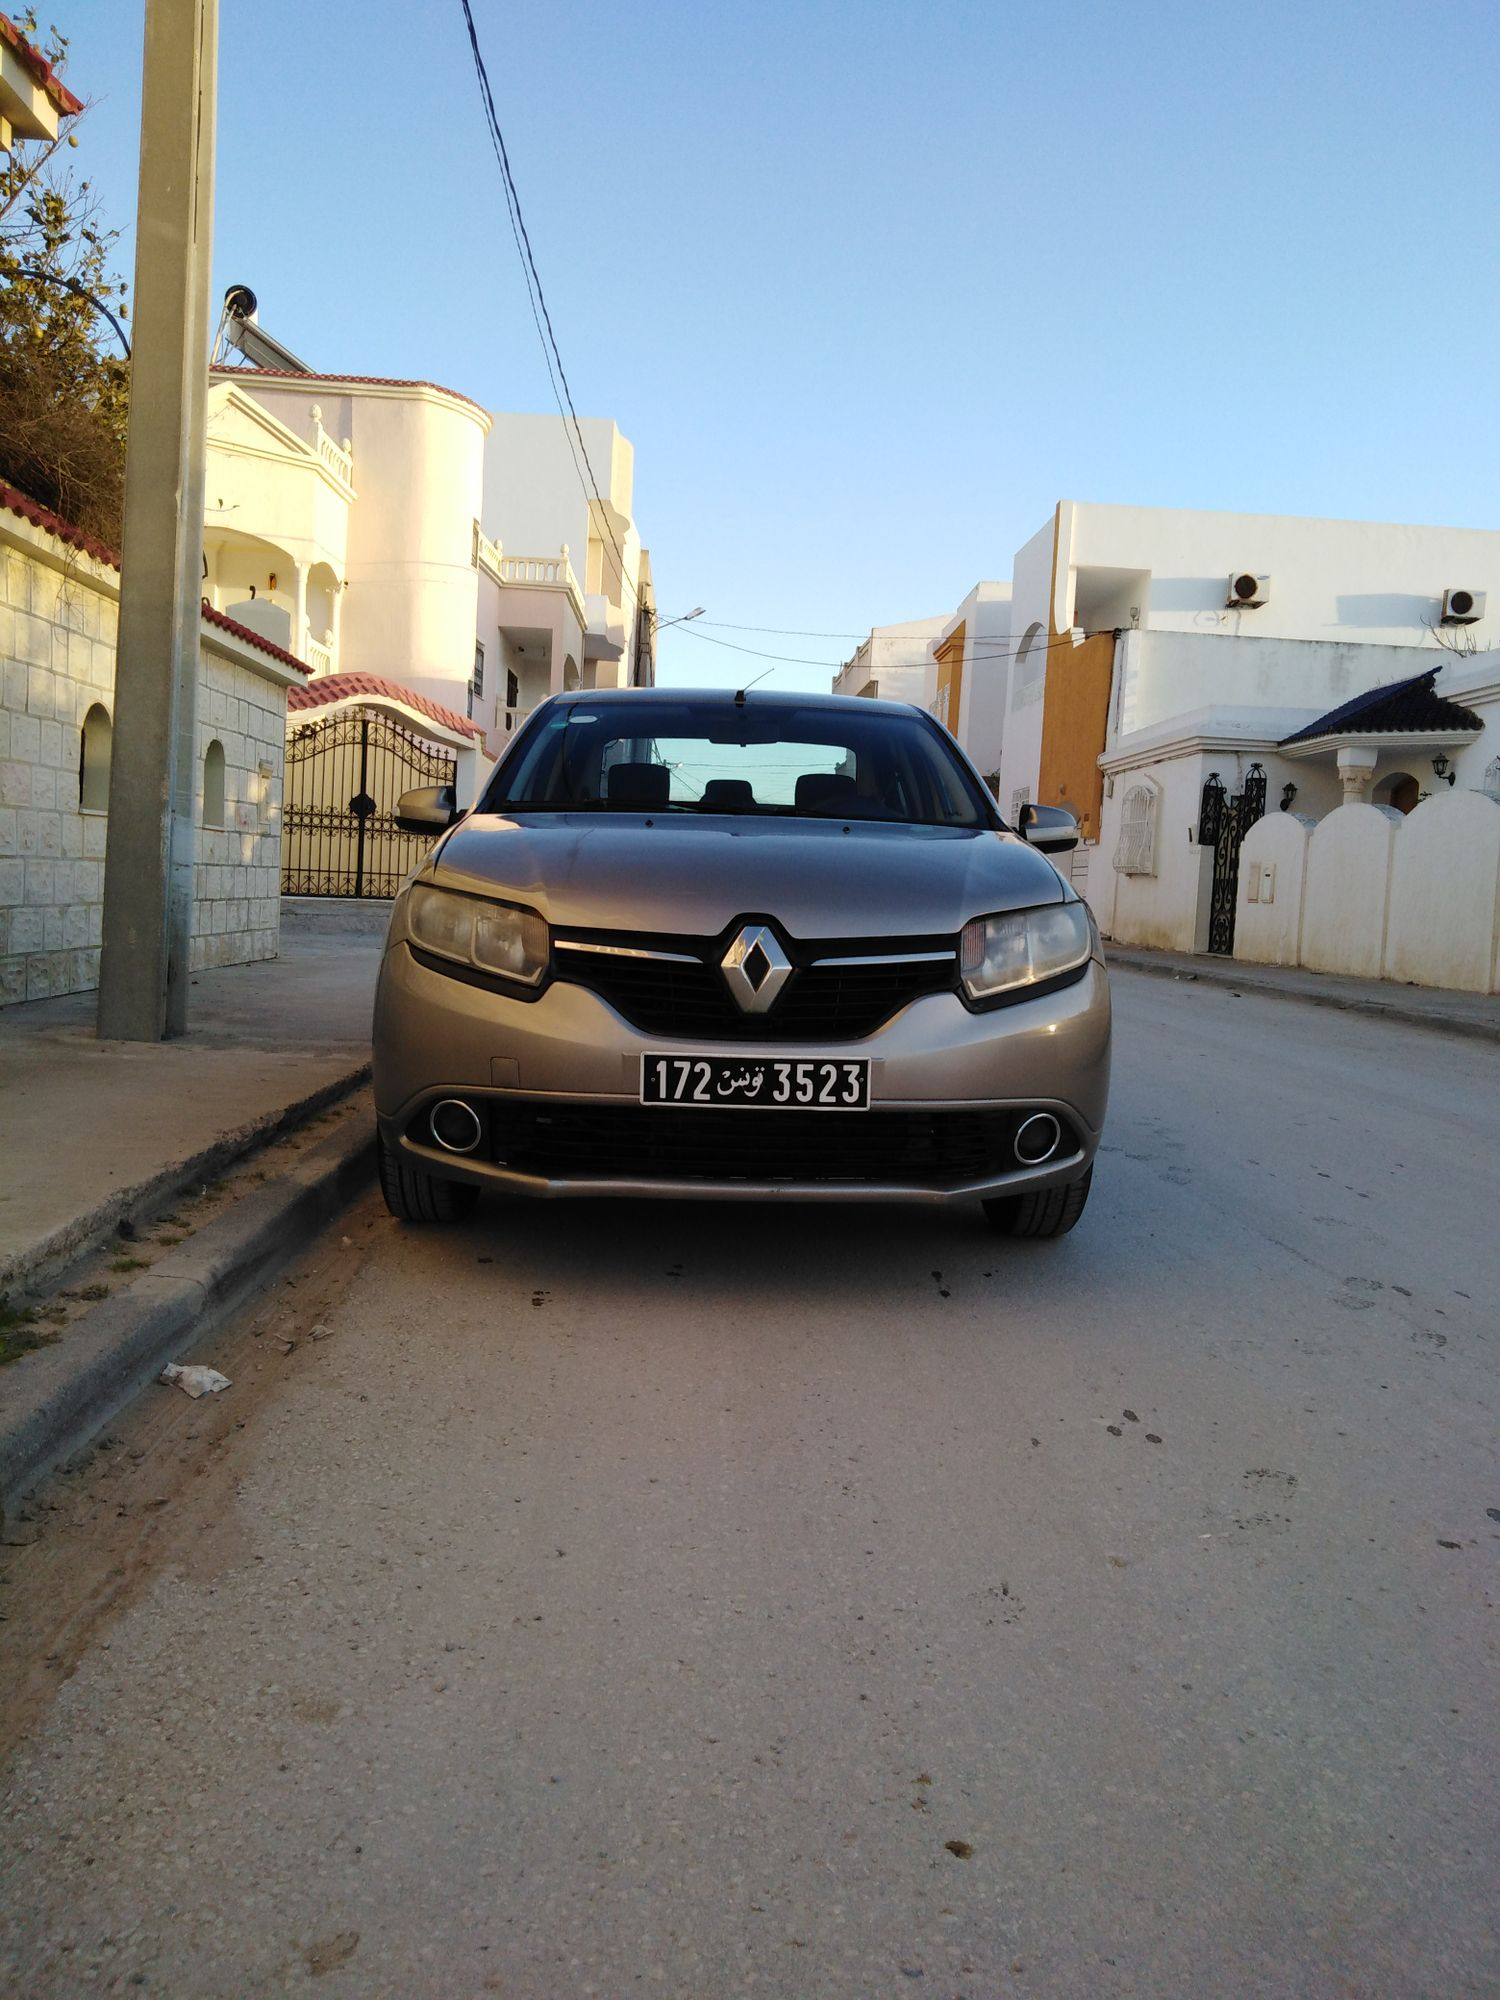LP: (636, 1048, 868, 1104)
